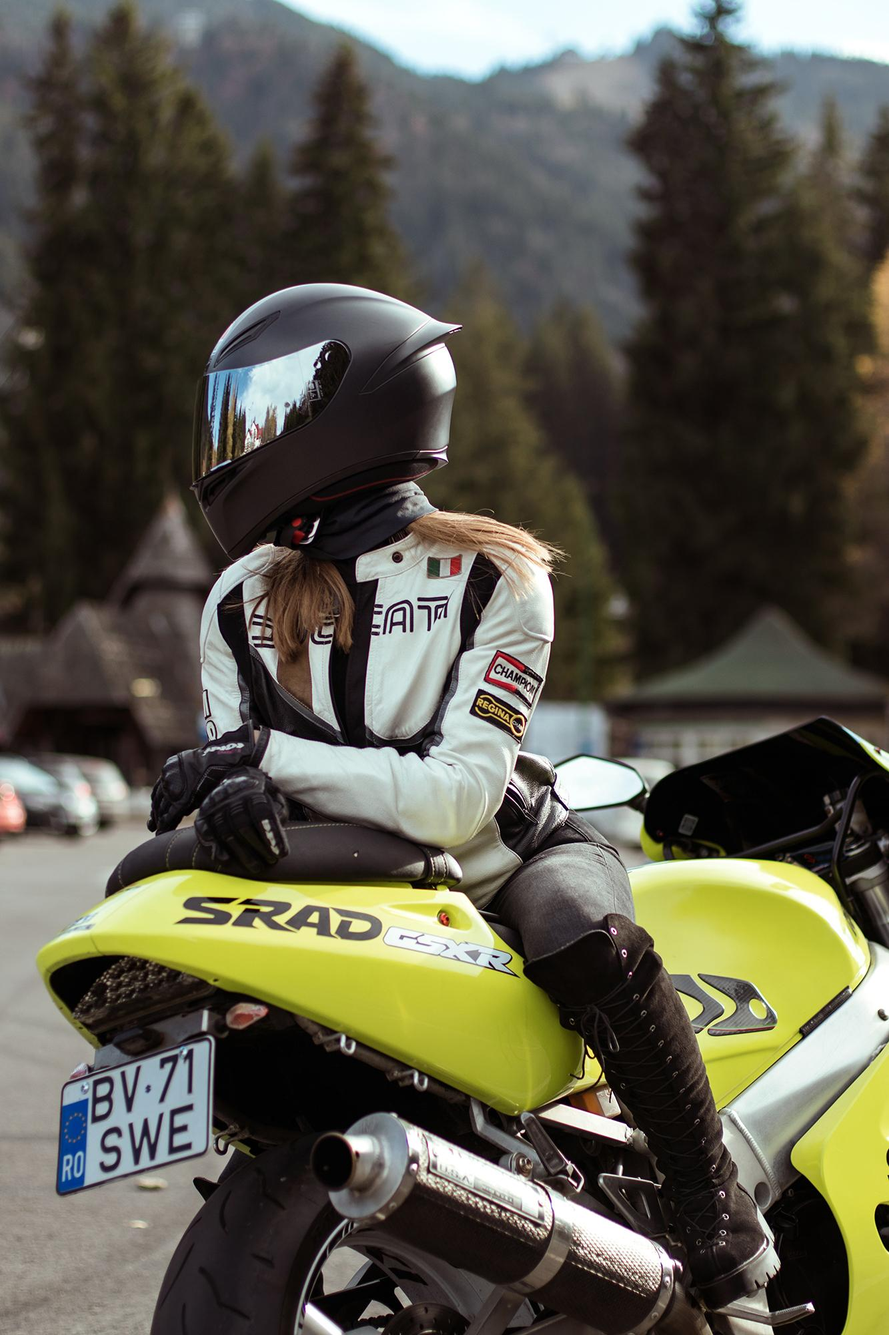helmet: (186, 280, 464, 564)
